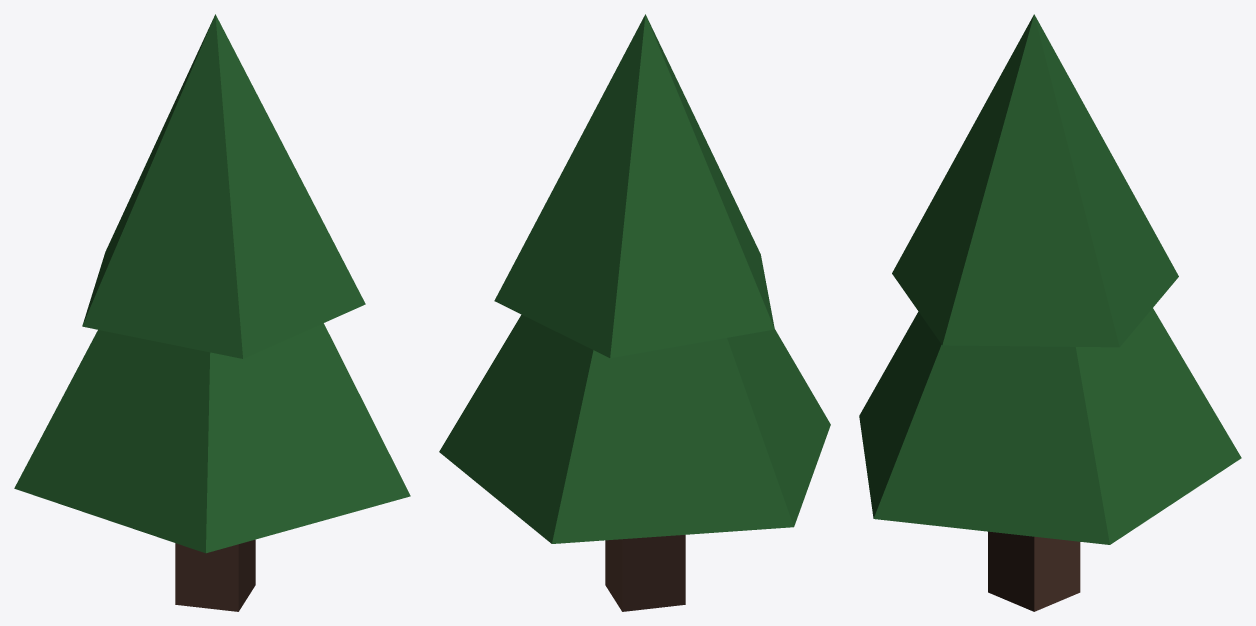
File: TB_Env_TreeDB_B.FBX
The picture shows the model from 3 angles, left to right: view 1: azimuth 30°, elevation 25°; view 2: azimuth 150°, elevation 25°; view 3: azimuth 270°, elevation 25°; orthographic projection.
Visible parts, largest first — view 1: TB_Env_TreeDB_B; view 2: TB_Env_TreeDB_B; view 3: TB_Env_TreeDB_B.
Part boxes in pixels (bbox=[...]): TB_Env_TreeDB_B: bbox=[14, 14, 410, 611]; TB_Env_TreeDB_B: bbox=[439, 14, 830, 611]; TB_Env_TreeDB_B: bbox=[859, 14, 1241, 611].
Size of the model in its own units: 3.08 by 4.98 by 2.98.
